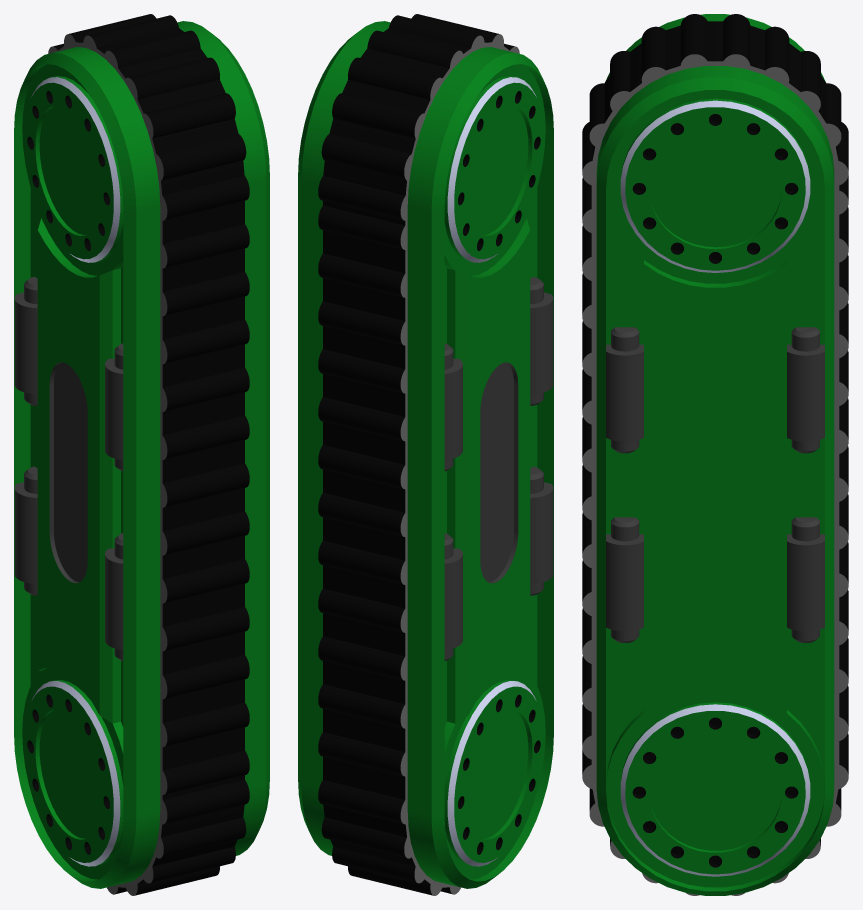
Rendered from leftleg_link1.obj.
3 renders of one model, left to right at view 1: azimuth 30°, elevation 25°; view 2: azimuth 150°, elevation 25°; view 3: azimuth 270°, elevation 25°, orthographic.
Bounding box in the file's own units: 0.1916 × 0.9761 × 0.28.
